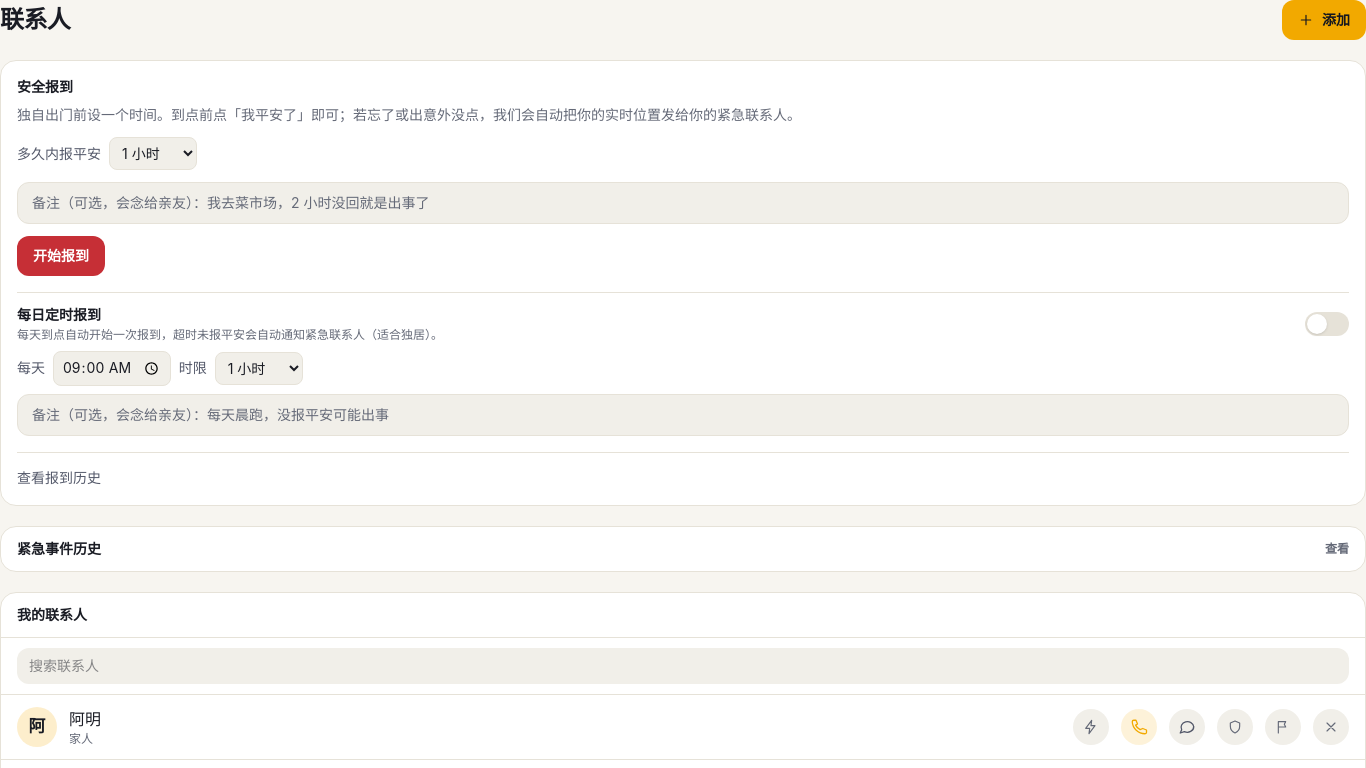
FamilyPage 联系人按名字搜索过滤 › 无匹配 → "没有匹配的联系人"（而非空白误导为无联系人）
Expected: the text "阿明" is shown, left=69, top=707, right=101, bottom=731
In the search field labelled "搜索联系人": (683, 666) left=17, top=648, right=1349, bottom=684, type "查无此人zzz"
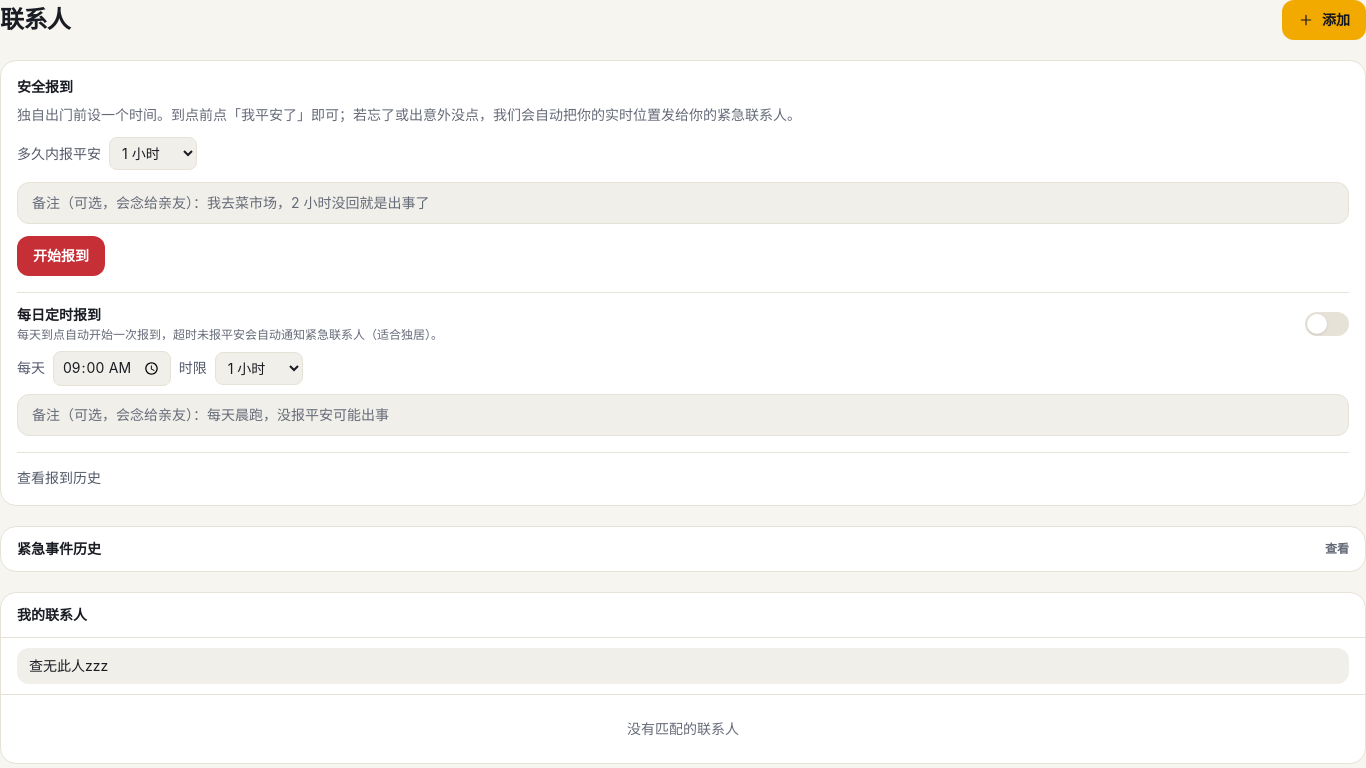
Expected: the text "没有匹配的联系人" is shown, left=627, top=720, right=739, bottom=737
Expected: the text "阿明" is gone
